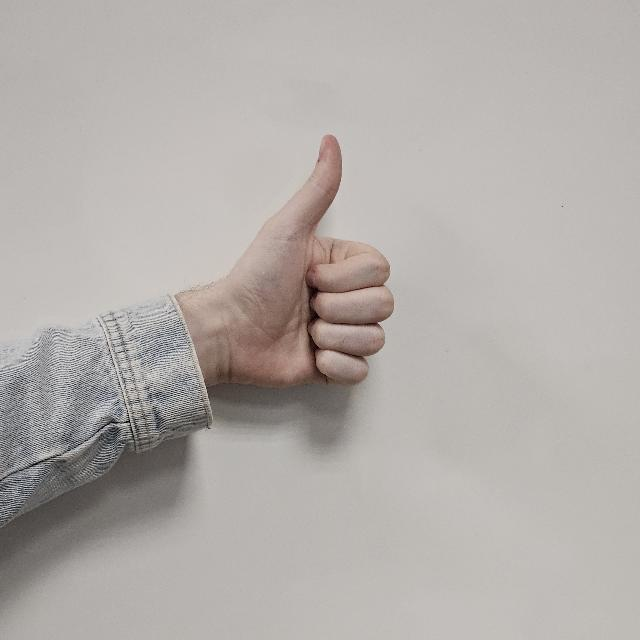Start: (182, 136, 396, 402)
